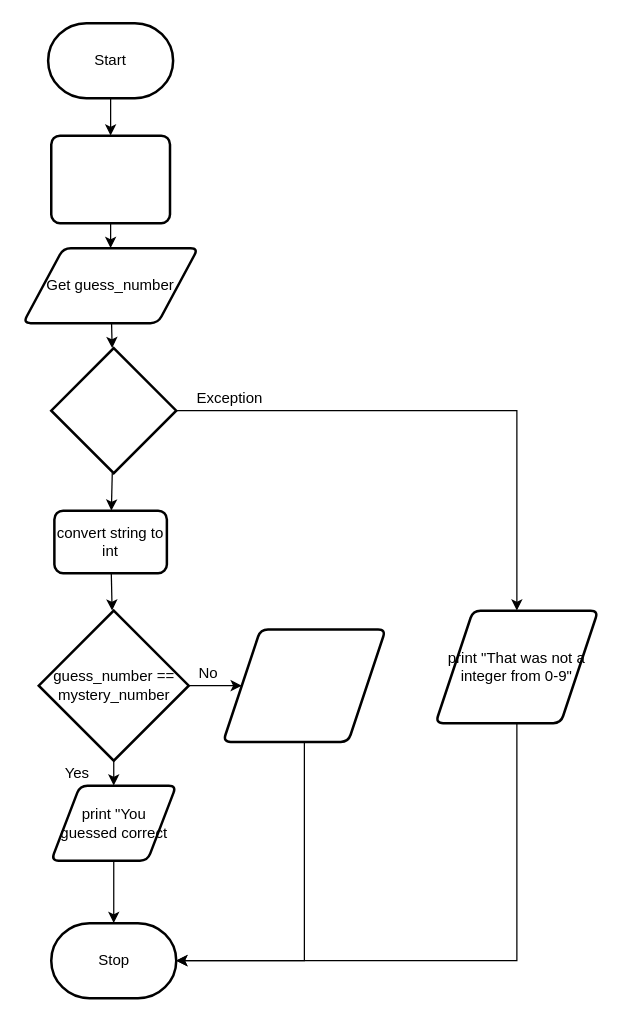
Image size: 620x1020. Some labels were removed from this diagram. Each missing label, with the centre of its shape:
Generate mystery_Number: [110,179]
print "You guessed incorrectly. Its mystery_Number. Try again.: [303,685]
Try: [113,410]
